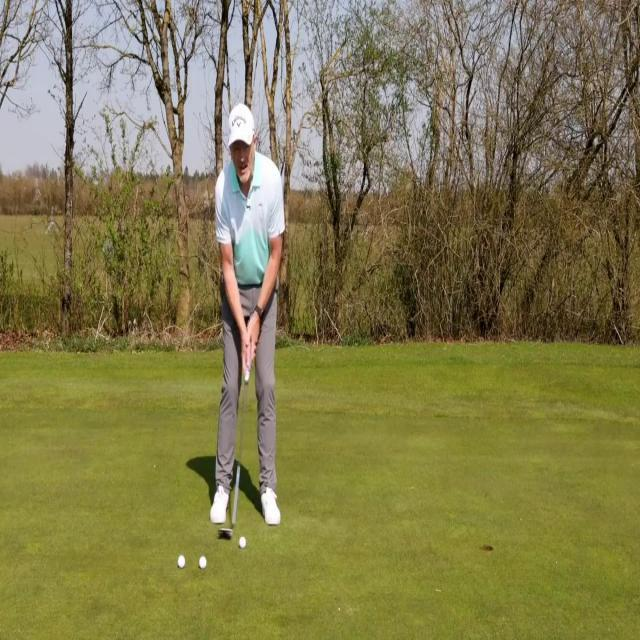ClubHead: (215, 513, 236, 547)
GolfBall: (232, 533, 252, 552), (196, 554, 212, 572), (174, 550, 187, 572)
